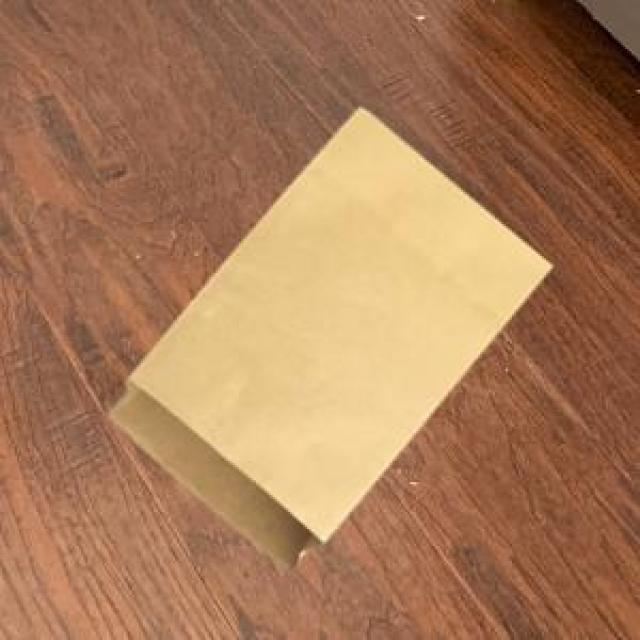paper: (105, 105, 548, 565)
